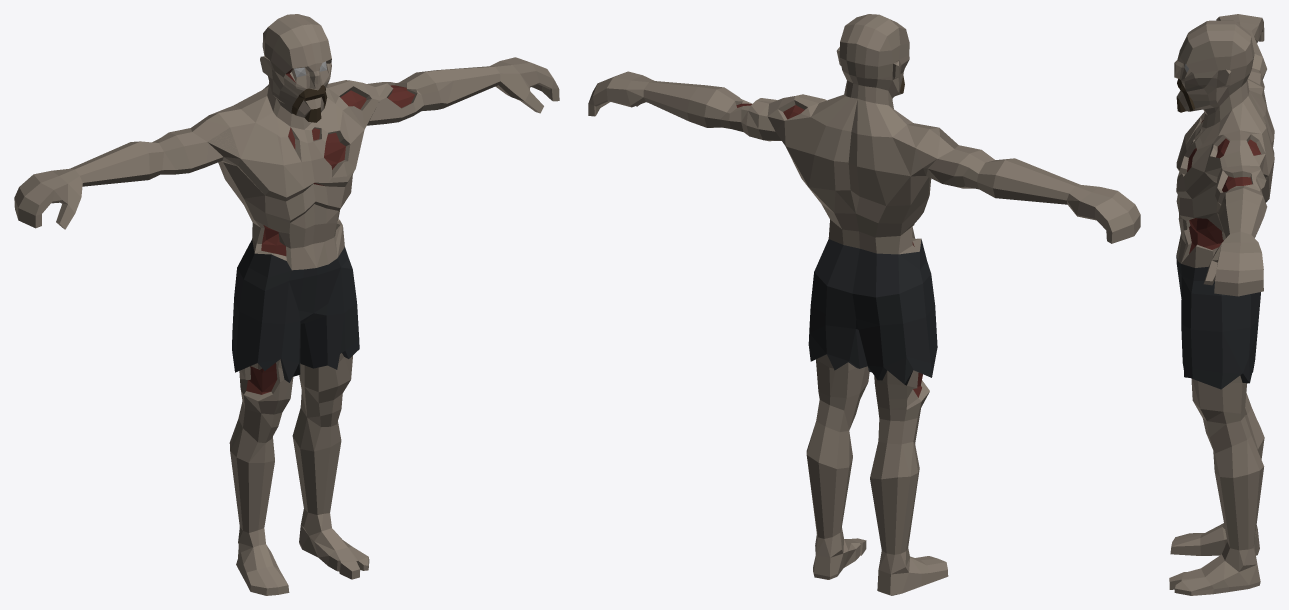
File: geometry_zombie.glb
3 renders of one model, left to right at view 1: azimuth 30°, elevation 25°; view 2: azimuth 150°, elevation 25°; view 3: azimuth 270°, elevation 25°, orthographic.
Parts seen in each view (by area): view 1: geometry_zombie; view 2: geometry_zombie; view 3: geometry_zombie.
Part boxes in pixels (left/top/right/bottom): geometry_zombie: left=14, top=14, right=559, bottom=595; geometry_zombie: left=588, top=14, right=1140, bottom=595; geometry_zombie: left=1169, top=14, right=1274, bottom=595.
Bounding box in the file's own units: 1.77 × 1.73 × 0.3024.
Materials: 1 (1 with a texture image).
